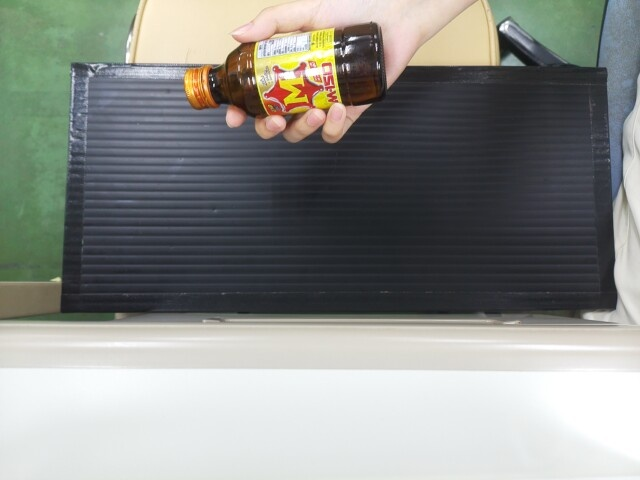glass_bottle: (183, 37, 387, 109)
